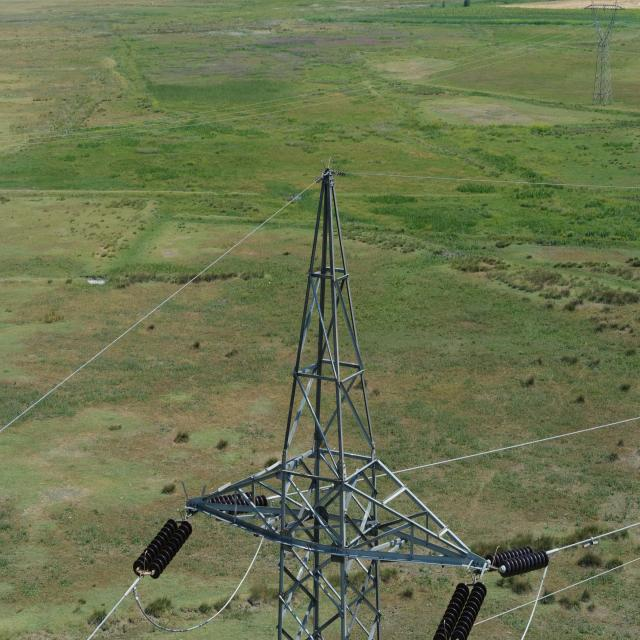direk: (280, 173, 380, 640)
